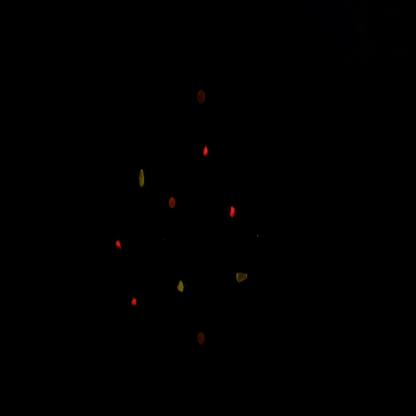PET: (127, 285, 143, 320), (225, 198, 241, 228), (112, 230, 128, 258), (200, 141, 213, 163)
PP: (132, 161, 153, 196), (232, 264, 253, 294), (175, 271, 190, 304)
PS: (193, 81, 213, 115), (164, 188, 183, 220), (194, 324, 211, 356)
